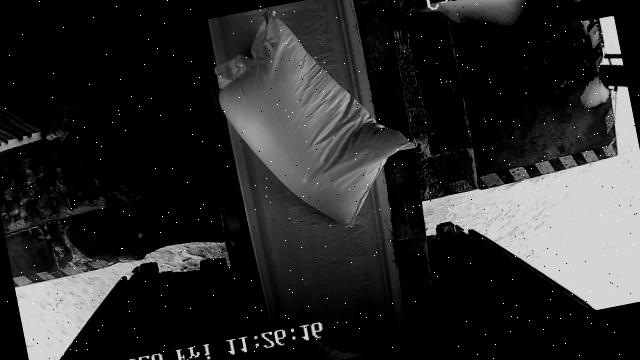bag: (204, 0, 429, 246)
